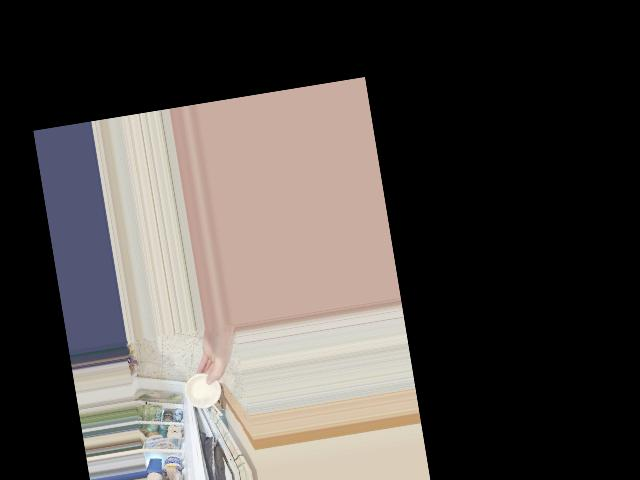cotage: (185, 375, 221, 410)
